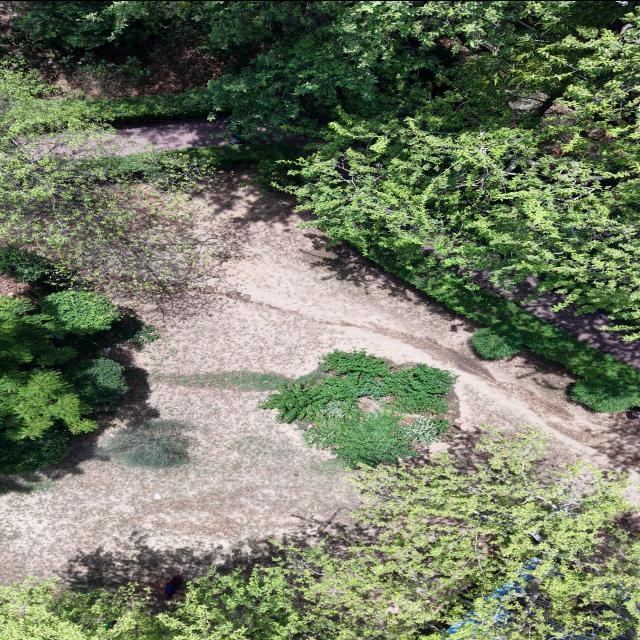DRY_AREA: (0, 175, 639, 589), (207, 187, 636, 470), (1, 385, 355, 588), (11, 21, 223, 99), (471, 270, 639, 368), (12, 22, 222, 99), (472, 273, 639, 368), (472, 274, 639, 368), (473, 274, 639, 368), (20, 25, 220, 99), (521, 292, 639, 368), (32, 118, 233, 156), (40, 118, 228, 156), (107, 118, 231, 152), (110, 118, 228, 152)
VEGETATION_TREE: (1, 1, 639, 439), (14, 1, 639, 403), (189, 1, 639, 319), (0, 430, 639, 639), (286, 2, 639, 337), (286, 86, 639, 338), (0, 62, 228, 445), (287, 431, 637, 639), (0, 62, 234, 306), (357, 238, 639, 406), (1, 154, 233, 306), (0, 289, 157, 472), (261, 350, 456, 465), (3, 1, 219, 97), (0, 577, 165, 639), (0, 289, 118, 366), (305, 404, 448, 465), (13, 1, 189, 48), (0, 368, 96, 439), (0, 295, 75, 367), (96, 419, 191, 468), (39, 289, 117, 333), (66, 314, 159, 350), (0, 426, 68, 474), (62, 357, 127, 404), (568, 379, 635, 411), (0, 245, 50, 281), (469, 328, 521, 358), (402, 416, 448, 445), (120, 317, 160, 345)
